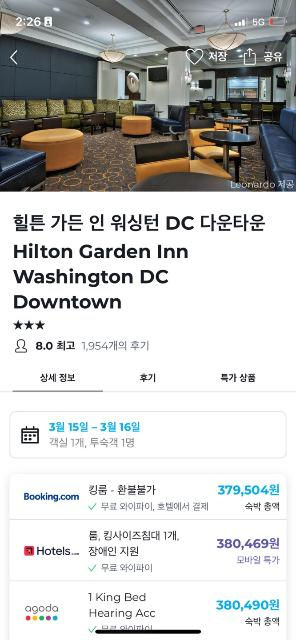BackgroundImage: (0, 0, 296, 192)
Icon: (14, 320, 44, 330), (185, 49, 203, 65), (21, 426, 39, 442), (243, 47, 255, 65), (10, 49, 18, 66), (15, 340, 26, 352), (88, 503, 96, 511), (88, 564, 96, 572), (88, 626, 96, 634)
Image: (24, 615, 57, 621), (24, 545, 34, 555)
List: (10, 474, 286, 640)
Multi_Tab: (1, 366, 296, 392)
Text: (13, 214, 264, 308), (49, 422, 139, 448), (90, 530, 178, 556), (87, 592, 155, 618), (102, 502, 208, 512), (216, 538, 280, 550), (217, 600, 279, 612), (217, 485, 279, 497), (83, 341, 149, 351), (23, 492, 79, 502), (89, 486, 156, 494), (230, 180, 293, 188), (36, 546, 80, 556), (102, 564, 152, 572), (36, 340, 74, 350), (245, 616, 279, 626), (238, 556, 280, 564), (245, 502, 279, 511), (221, 373, 255, 382), (40, 374, 76, 382), (26, 604, 58, 612), (208, 52, 228, 62), (264, 52, 282, 62), (140, 373, 156, 382)
TextImageButton: (10, 410, 286, 458), (244, 48, 284, 66), (186, 48, 226, 64)
Toolbar: (1, 32, 296, 78)
UpperTaskBar: (0, 1, 296, 32)
